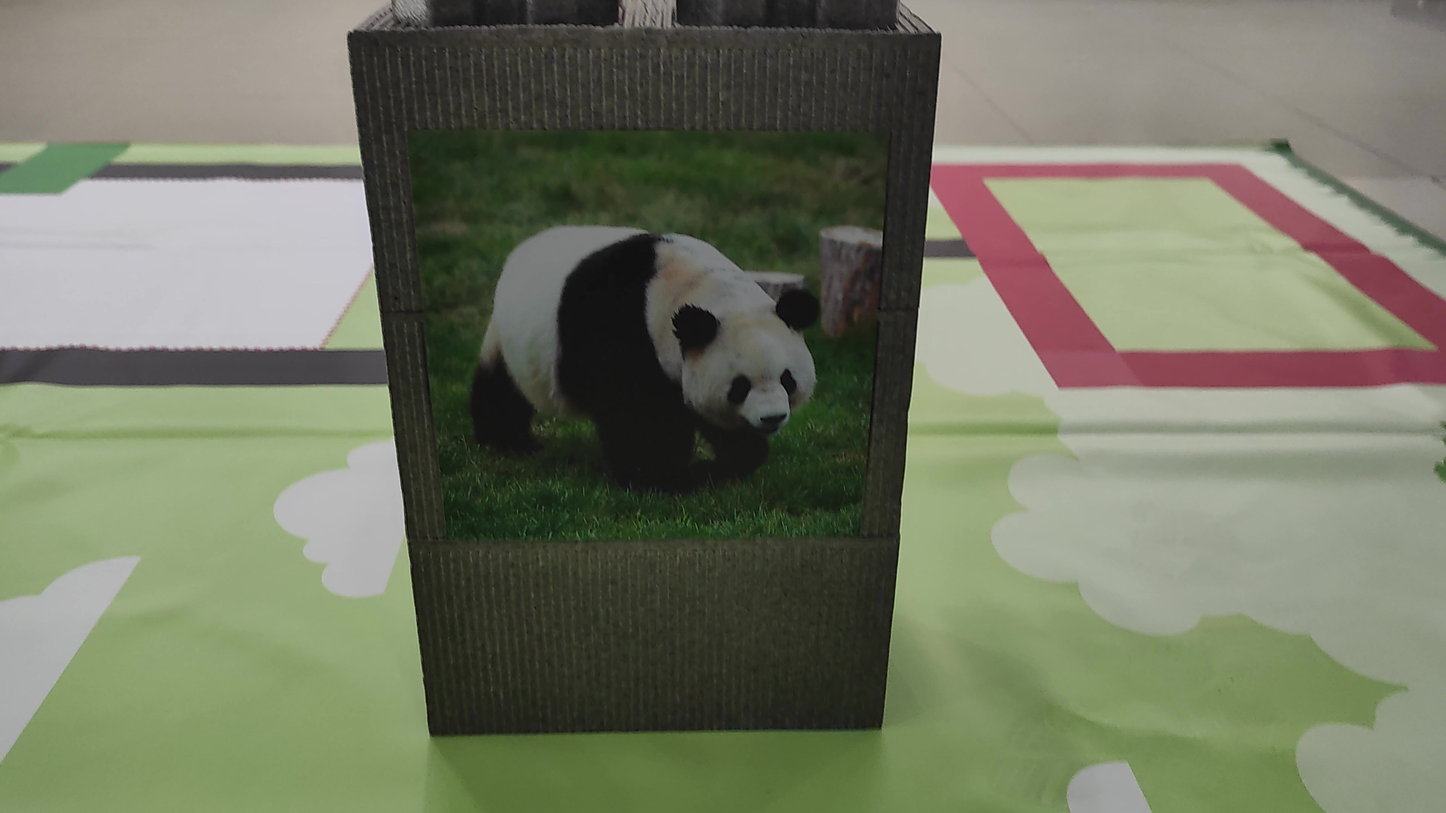panda: (451, 192, 853, 510)
